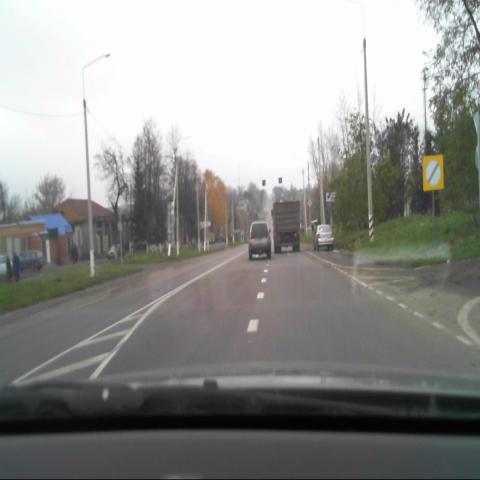3_31: (424, 155, 443, 191)
